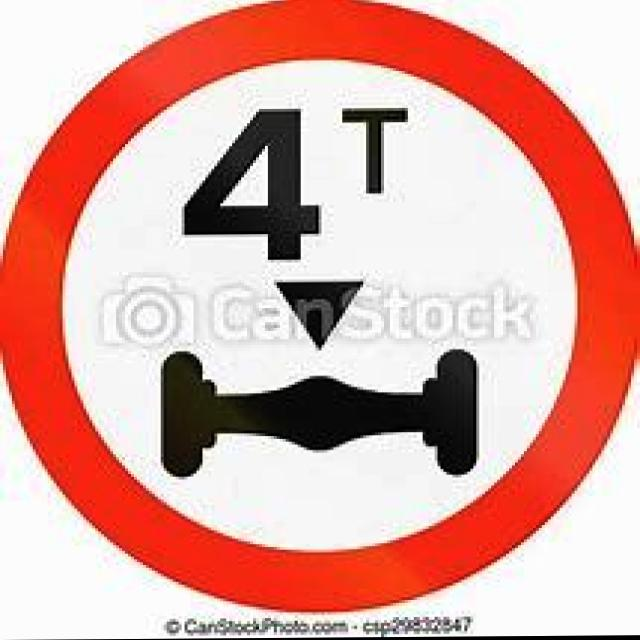AXLE_LOAD_LIMIT: (0, 0, 640, 614)
